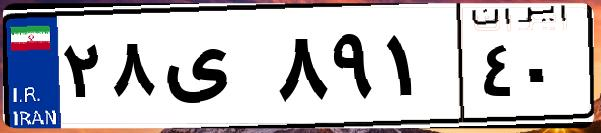0: (525, 38, 570, 115)
1: (385, 28, 445, 110)
2: (57, 26, 110, 100)
4: (475, 38, 525, 113)
8: (270, 28, 330, 110), (110, 28, 158, 98)
9: (330, 28, 385, 110)
ی: (158, 20, 270, 120)
